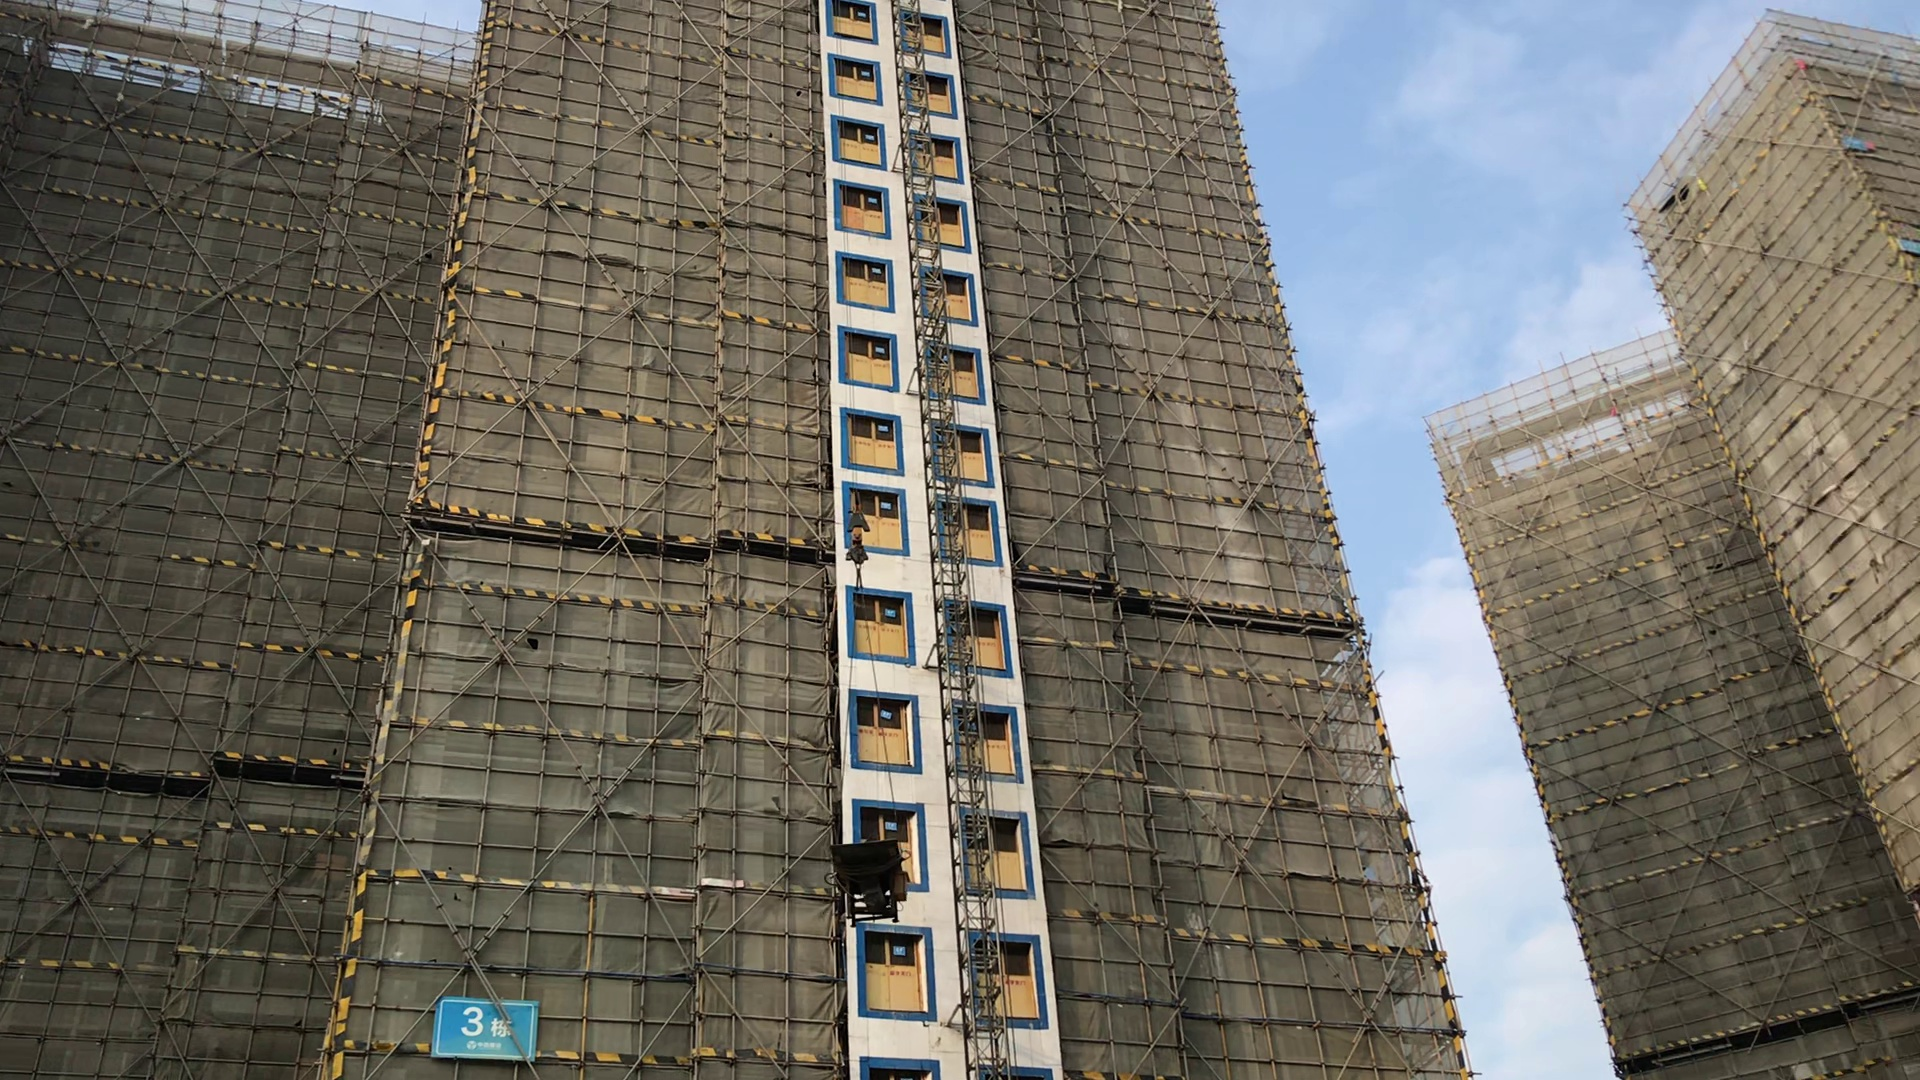hook: (844, 509, 874, 571)
